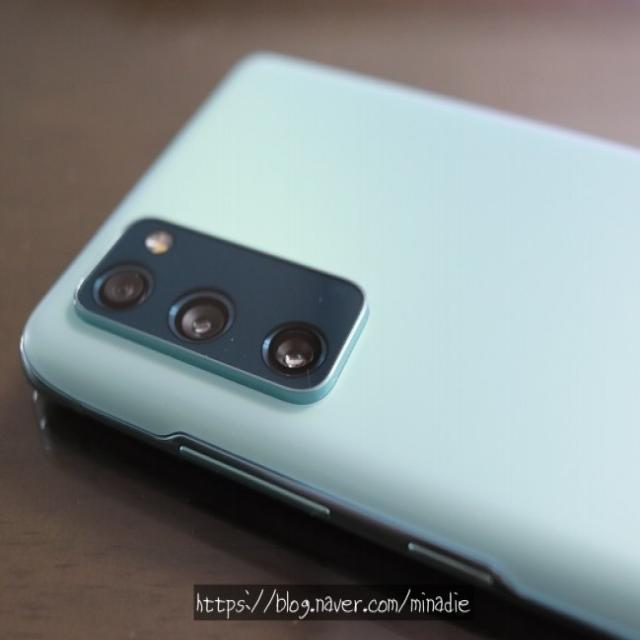Mobile: (36, 51, 640, 624)
